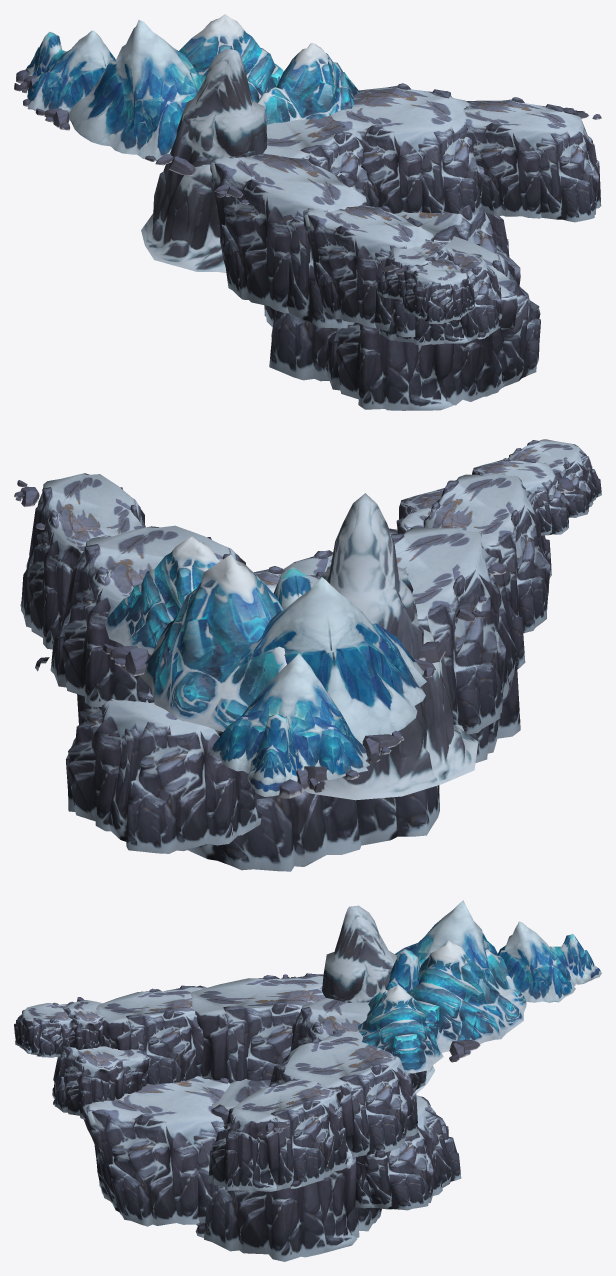
File: yanshi10_1.fbx
The picture shows the model from 3 angles, top to bottom: view 1: azimuth 30°, elevation 25°; view 2: azimuth 150°, elevation 25°; view 3: azimuth 270°, elevation 25°; orthographic projection. The views are drawn at different scales.
Visible parts, largest first — view 1: yanshi10_1; view 2: yanshi10_1; view 3: yanshi10_1.
Boxes of the visible parts, <box> form: yanshi10_1: <box>14,14,601,410</box>; yanshi10_1: <box>14,439,601,871</box>; yanshi10_1: <box>14,900,601,1261</box>.
Bounding box in the file's own units: 2720 × 1774 × 3743.
